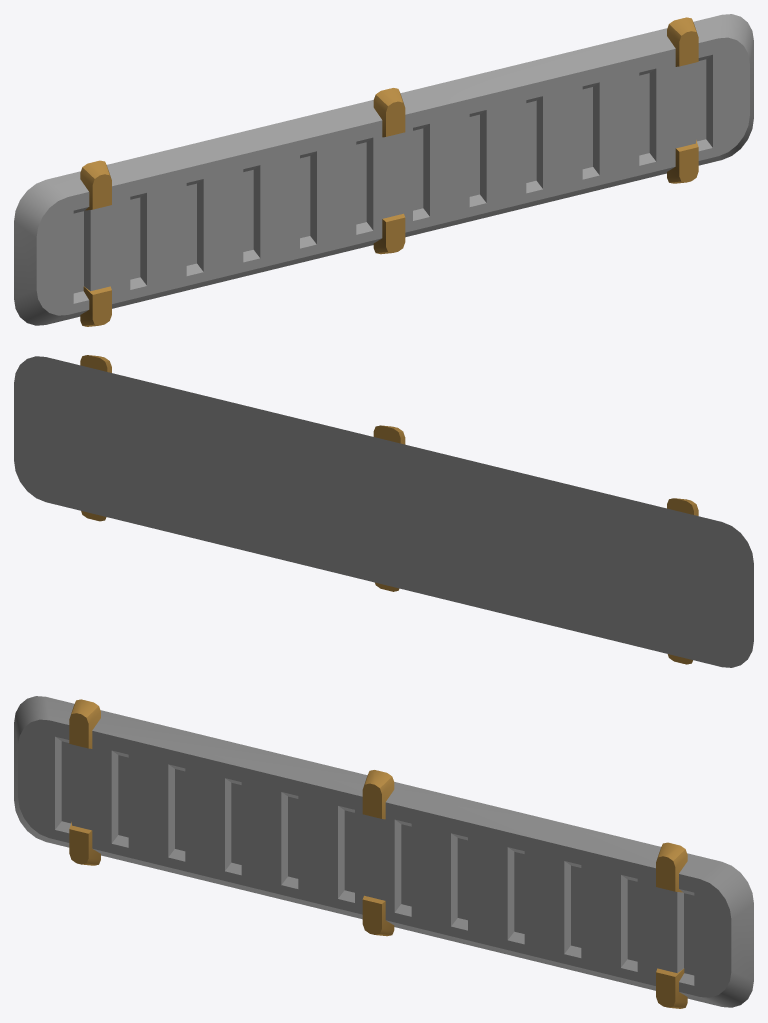
The model's file is Details_Vent_3.glb.
The picture shows the model from 3 angles, top to bottom: view 1: azimuth 30°, elevation 25°; view 2: azimuth 150°, elevation 25°; view 3: azimuth 330°, elevation 25°; orthographic projection.
Visible parts, largest first — view 1: Details_Vent_3; view 2: Details_Vent_3; view 3: Details_Vent_3.
Boxes of the visible parts, x1,y1,x2,y2 form: Details_Vent_3: [14, 14, 753, 326]; Details_Vent_3: [14, 355, 753, 667]; Details_Vent_3: [14, 696, 753, 1008].
Size of the model in its own units: 0.3577 by 0.076 by 0.00975.
